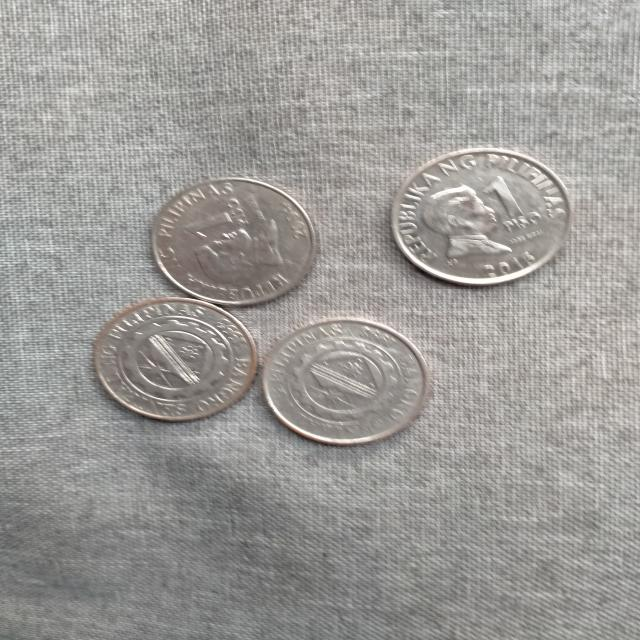1_Old_Back: (99, 312, 236, 405)
